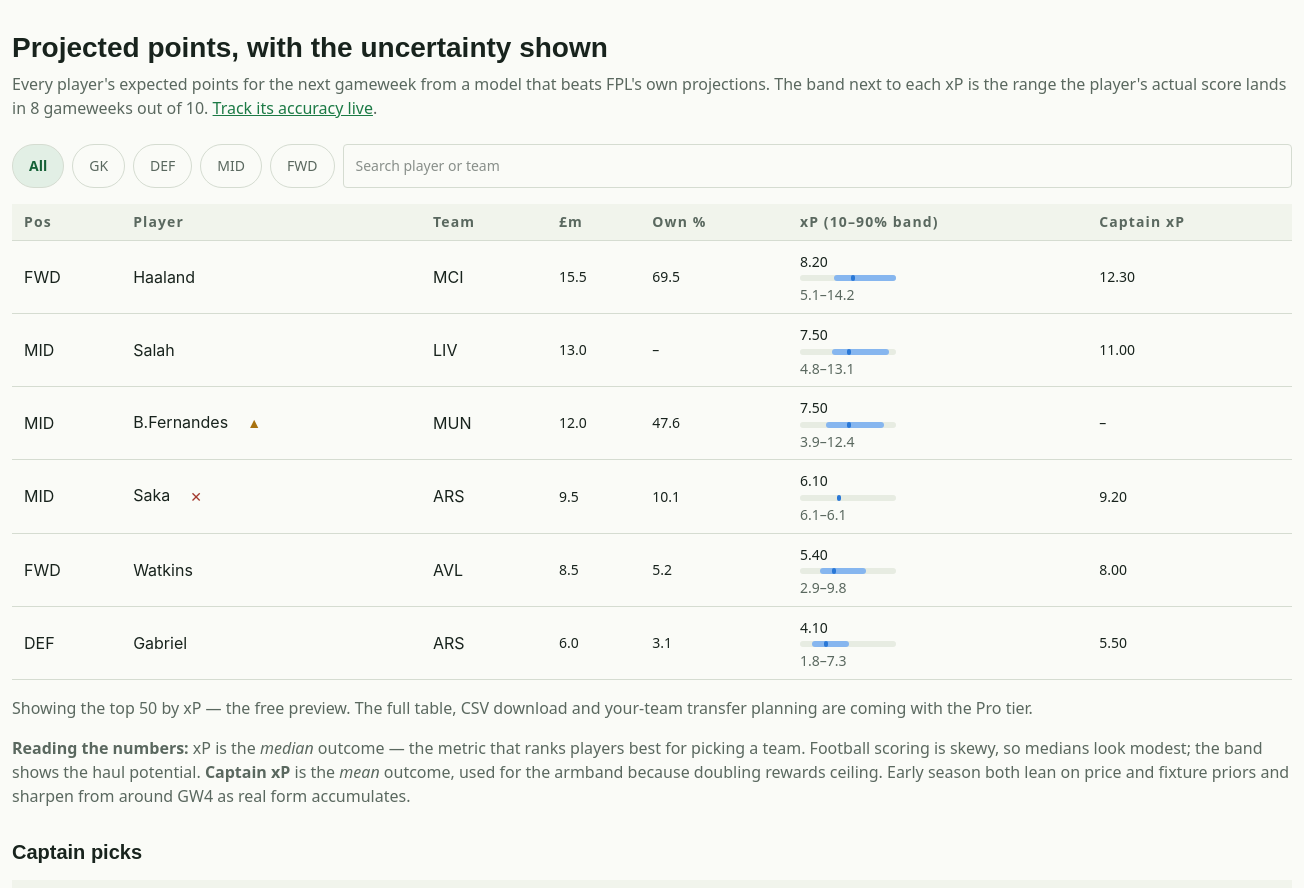
Scenario: XpTable (Task 1 — end-to-end slice) › clicking the £m header once sorts ascending with ▼, clicking again sorts descending with ▲
This screenshot has width=1304, height=888.
Expected: the text "Haaland" is shown, [121, 240, 421, 314]
Click the button "£m".
click(573, 222)  # box [559, 212, 587, 232]
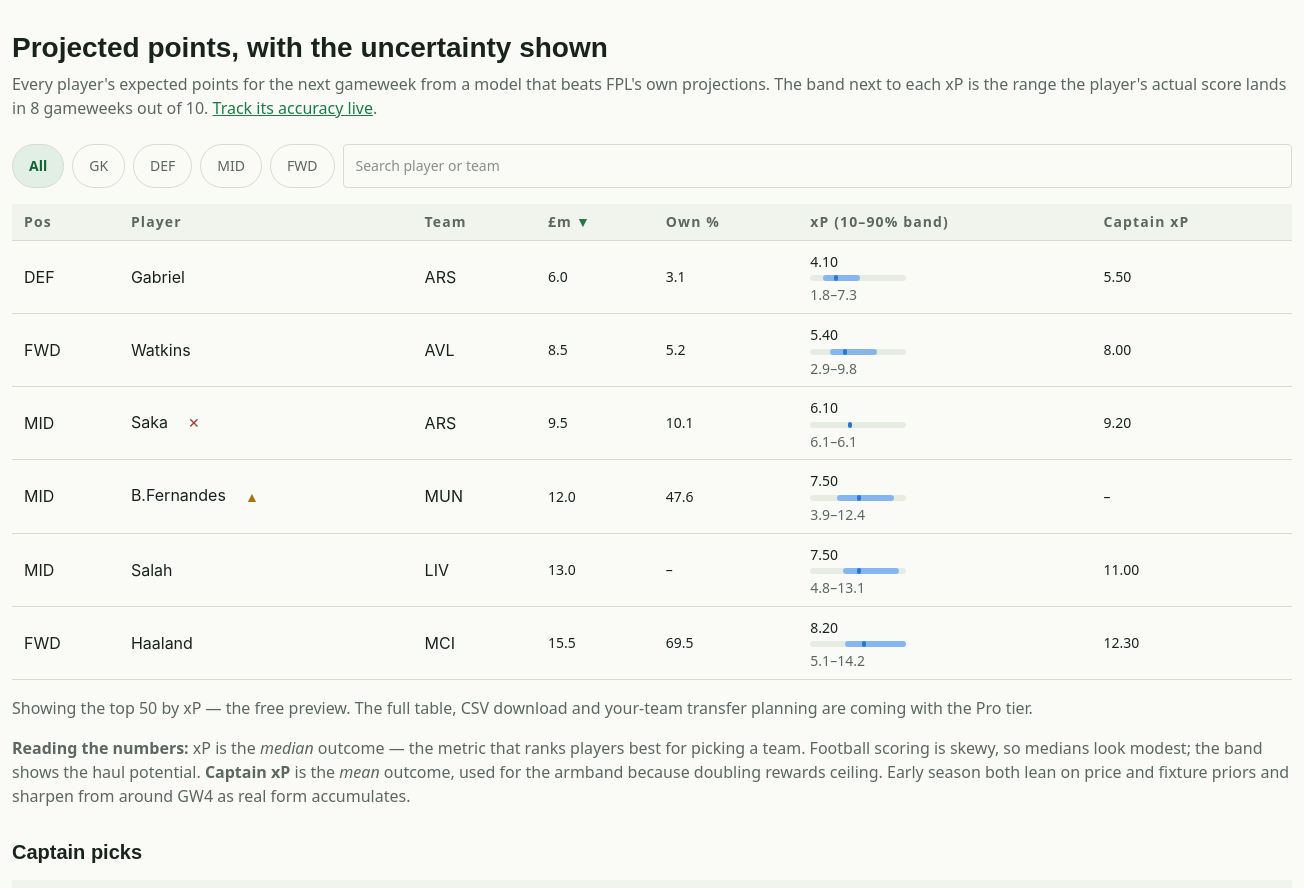
Expected: the cell "Gabriel" is shown, [119, 240, 413, 314]
Expected: the button "£m ▼" is shown
Click the button "£m ▼".
click(569, 222)  # box [548, 212, 591, 232]
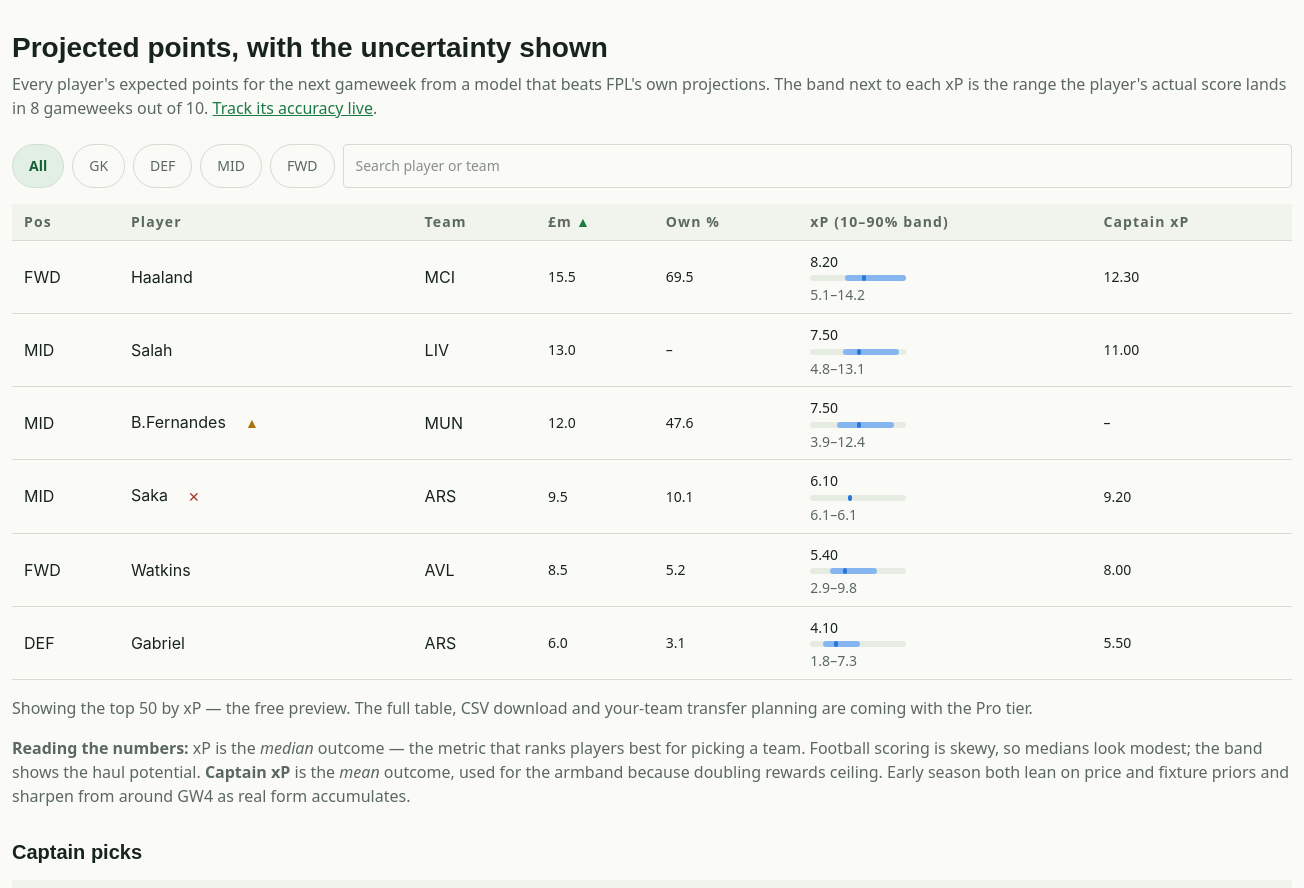
Expected: the cell "Haaland" is shown, [119, 240, 413, 314]
Expected: the button "£m ▲" is shown, [548, 212, 591, 232]
